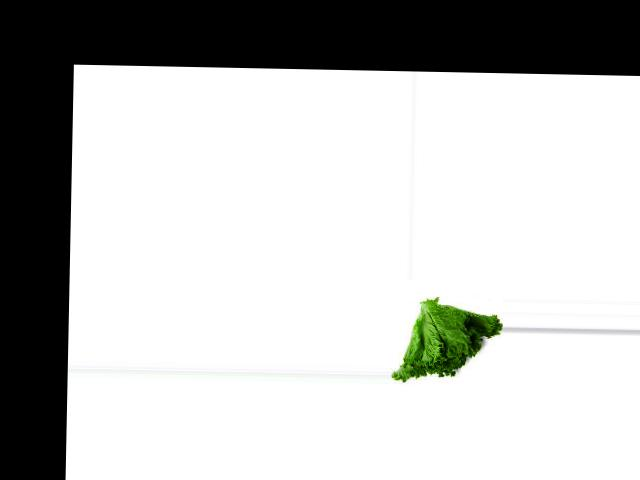lettuce: (390, 299, 504, 386)
